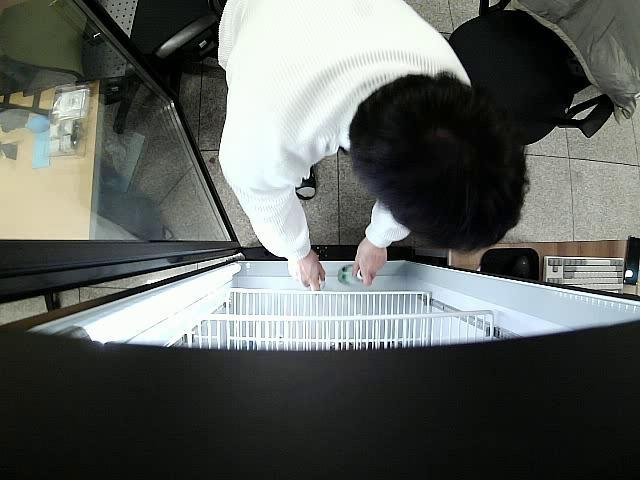18_trevi: (338, 264, 366, 288)
